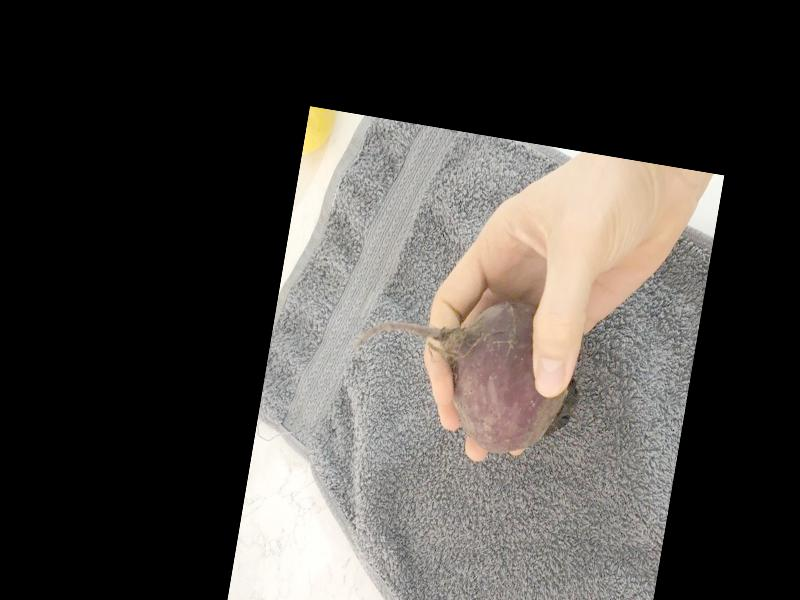Beet: (341, 275, 592, 464)
